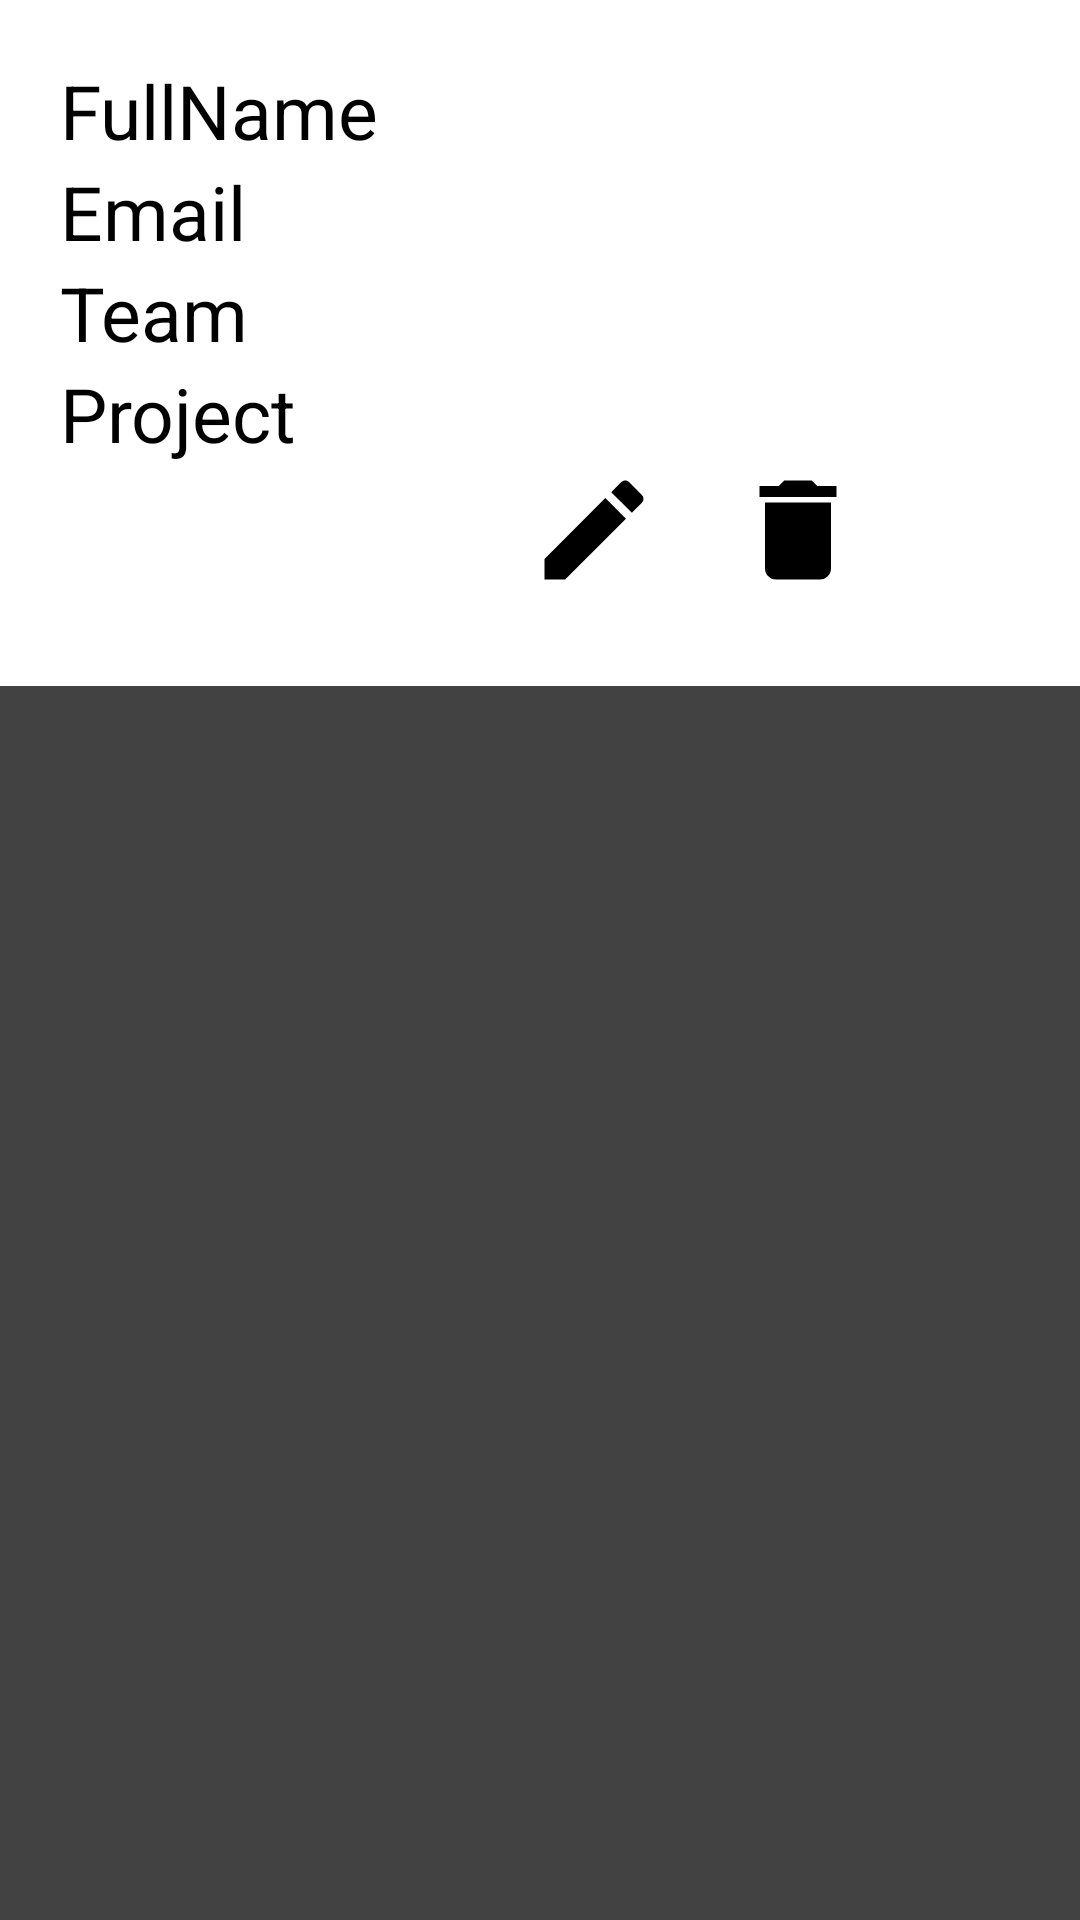

Named icons in this screenshot (1080*1920) and their bounding boxes, (x1, y1, x2, y2):
delete: (759, 480, 837, 580)
edit: (544, 480, 644, 580)
